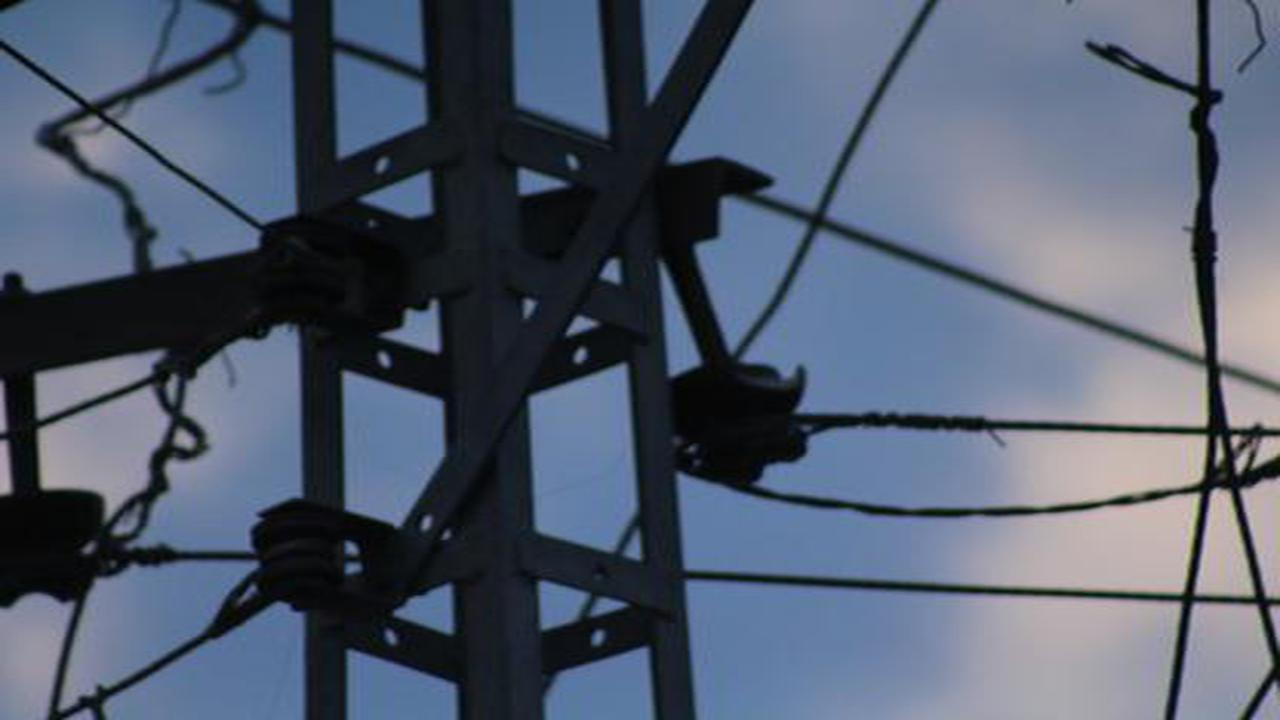insulator_pin: (659, 349, 827, 502)
